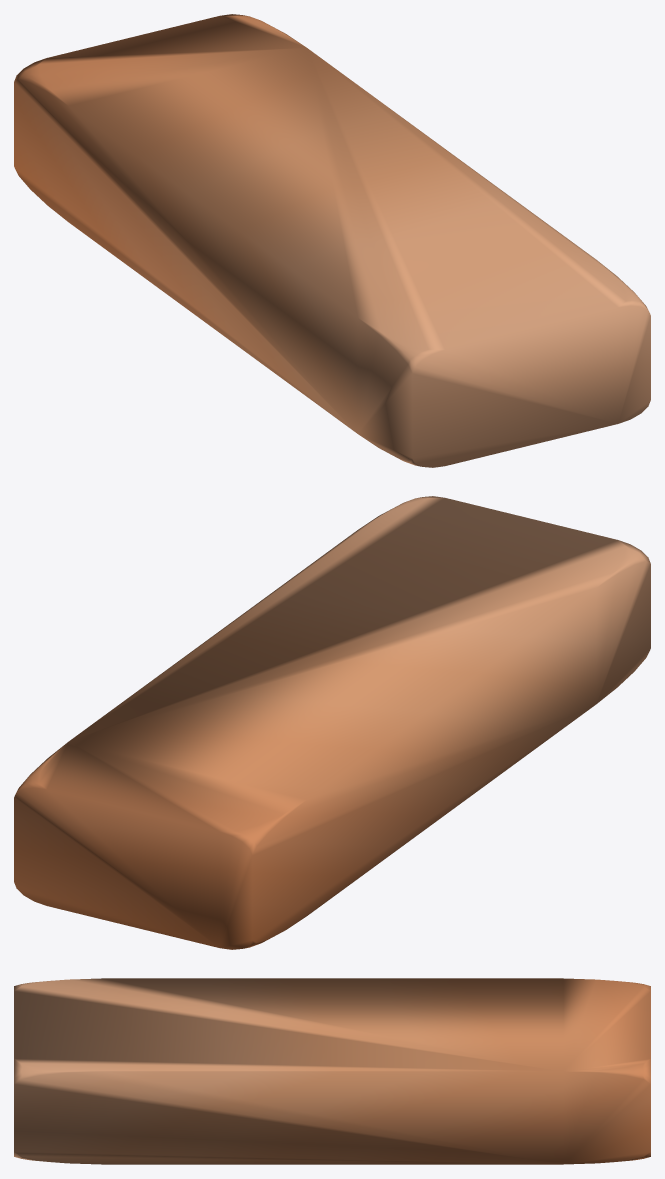
Rendered from tahta (1).fbx.
The picture shows the model from 3 angles, top to bottom: view 1: azimuth 30°, elevation 25°; view 2: azimuth 150°, elevation 25°; view 3: azimuth 270°, elevation 25°; orthographic projection. The views are drawn at different scales.
Visible parts, largest first — view 1: sandalye_tüm.001; view 2: sandalye_tüm.001; view 3: sandalye_tüm.001.
Boxes of the visible parts, x1,y1,x2,y2 form: sandalye_tüm.001: (14, 14, 650, 467); sandalye_tüm.001: (14, 496, 650, 949); sandalye_tüm.001: (14, 978, 650, 1164).
Bounding box in the file's own units: 71.24 × 33.24 × 206.
Materials: 1 (1 with a texture image).
